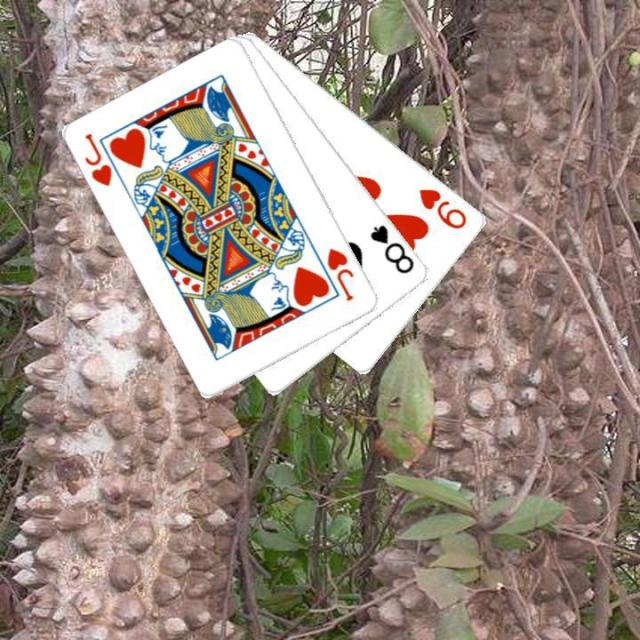8S: (366, 220, 417, 276)
9H: (415, 184, 469, 231)
JH: (81, 129, 115, 188), (324, 245, 356, 303)
